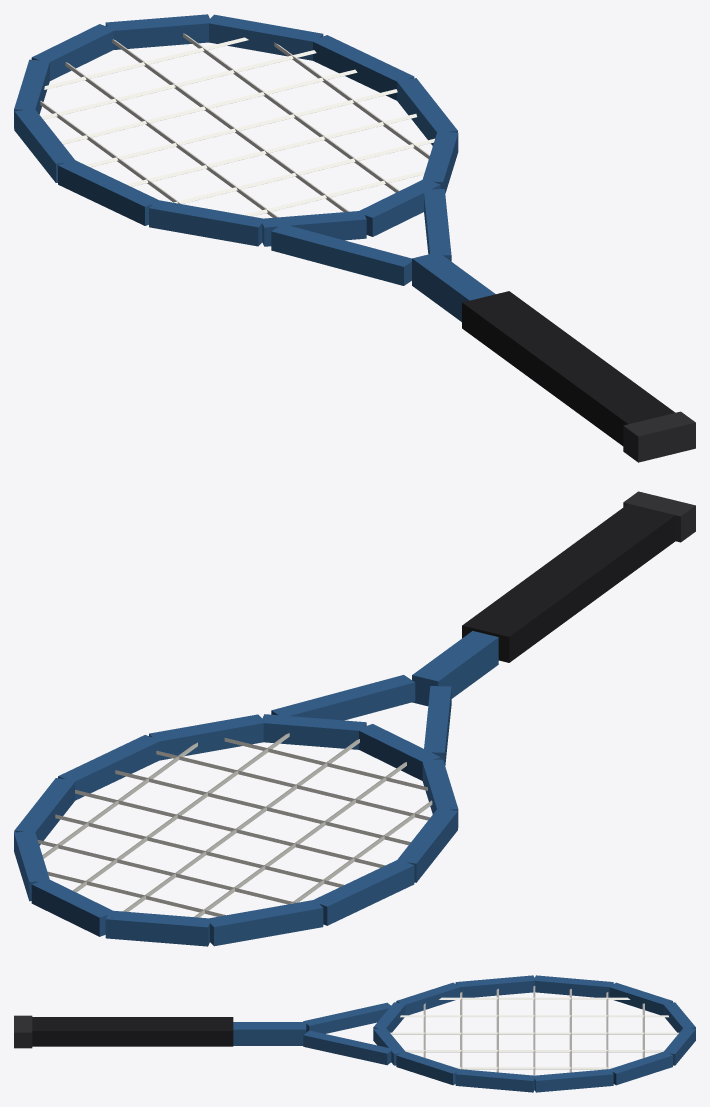
File: GS_TennisRacket_01.glb
The picture shows the model from 3 angles, top to bottom: view 1: azimuth 30°, elevation 25°; view 2: azimuth 150°, elevation 25°; view 3: azimuth 270°, elevation 25°; orthographic projection. The views are drawn at different scales.
Visible parts, largest first — view 1: GS_TennisRacket_01; view 2: GS_TennisRacket_01; view 3: GS_TennisRacket_01.
Part boxes in pixels (box(x1,y1,x2,y2)): GS_TennisRacket_01: box(14, 14, 695, 462); GS_TennisRacket_01: box(14, 491, 695, 946); GS_TennisRacket_01: box(14, 975, 695, 1092).
Size of the model in its own units: 0.2737 by 0.022 by 0.7466.
Materials: 1 (1 with a texture image).
